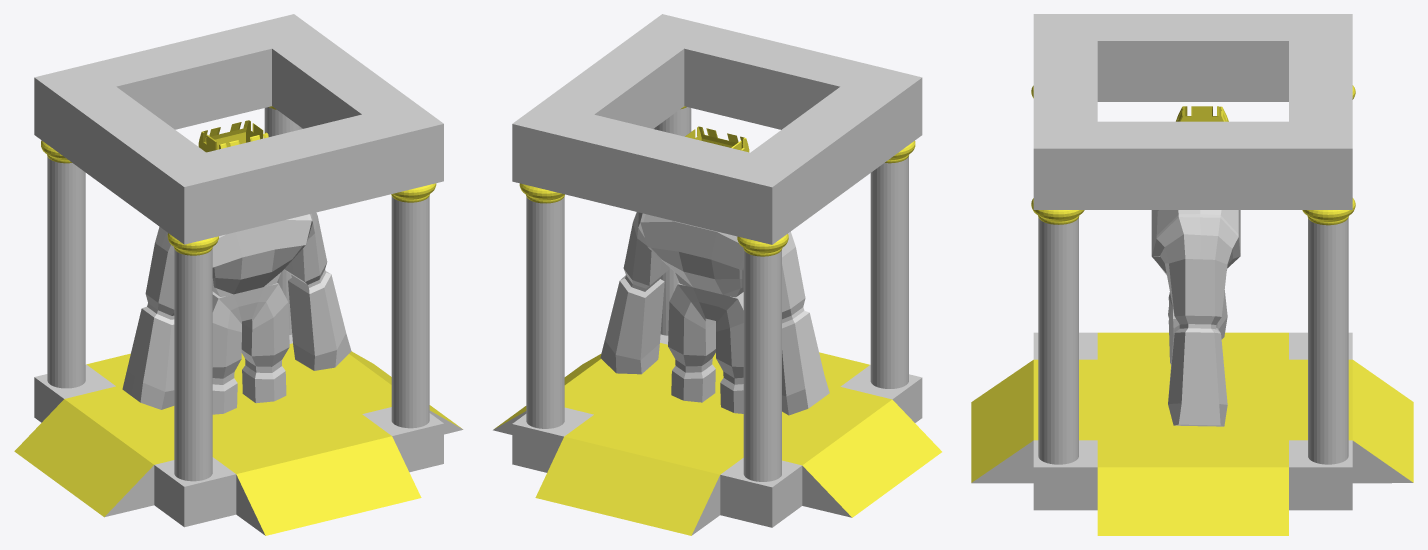
Rendered from carrara_workshop.fbx.
3 renders of one model, left to right at view 1: azimuth 30°, elevation 25°; view 2: azimuth 150°, elevation 25°; view 3: azimuth 270°, elevation 25°, orthographic. The views are drawn at different scales.
Parts seen in each view (by area): view 1: workshop; view 2: workshop; view 3: workshop.
Boxes of the visible parts, x1,y1,x2,y2 form: workshop: (14, 14, 463, 535); workshop: (493, 14, 941, 535); workshop: (971, 14, 1413, 535).
Size of the model in its own units: 1331 by 1203 by 1335.
